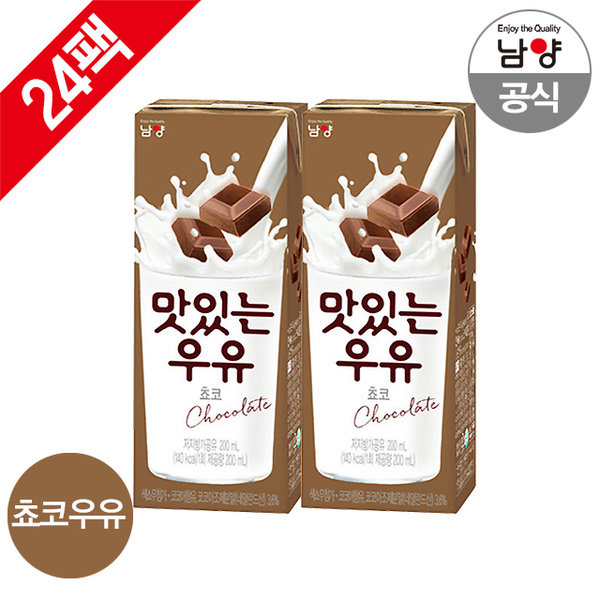milk: (133, 99, 477, 515)
